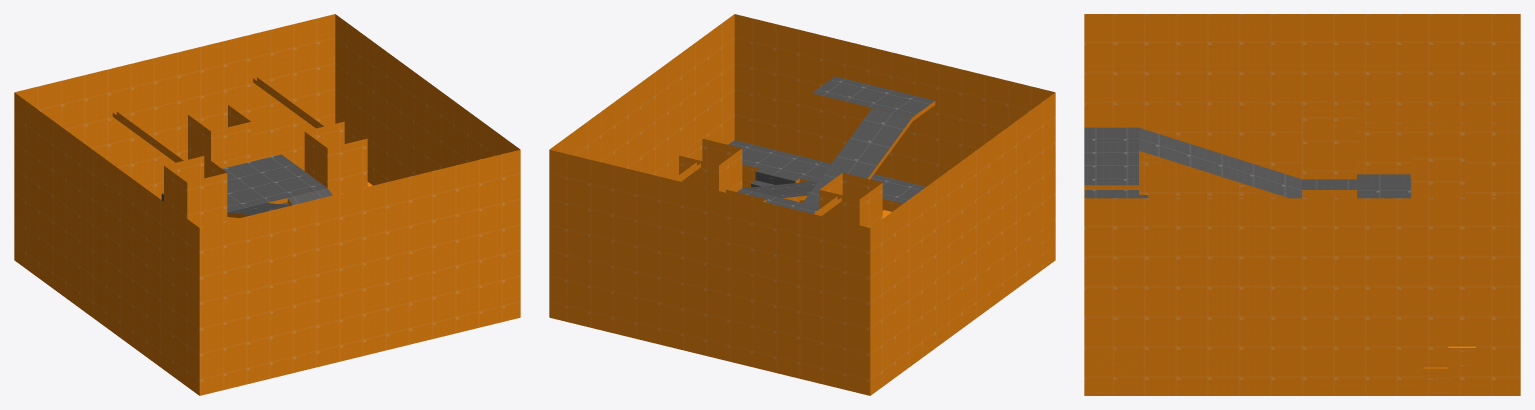
File: lmScene.glb
The picture shows the model from 3 angles, left to right: view 1: azimuth 30°, elevation 25°; view 2: azimuth 150°, elevation 25°; view 3: azimuth 270°, elevation 25°; orthographic projection. The views are drawn at different scales.
Visible parts, largest first — view 1: Cube; view 2: Cube; view 3: Cube.
Part boxes in pixels (bbox=[...]): Cube: bbox=[14, 14, 520, 395]; Cube: bbox=[549, 14, 1055, 395]; Cube: bbox=[1084, 14, 1520, 395].
Size of the model in its own units: 16.12 by 8 by 16.
Materials: 2 (2 with a texture image).
